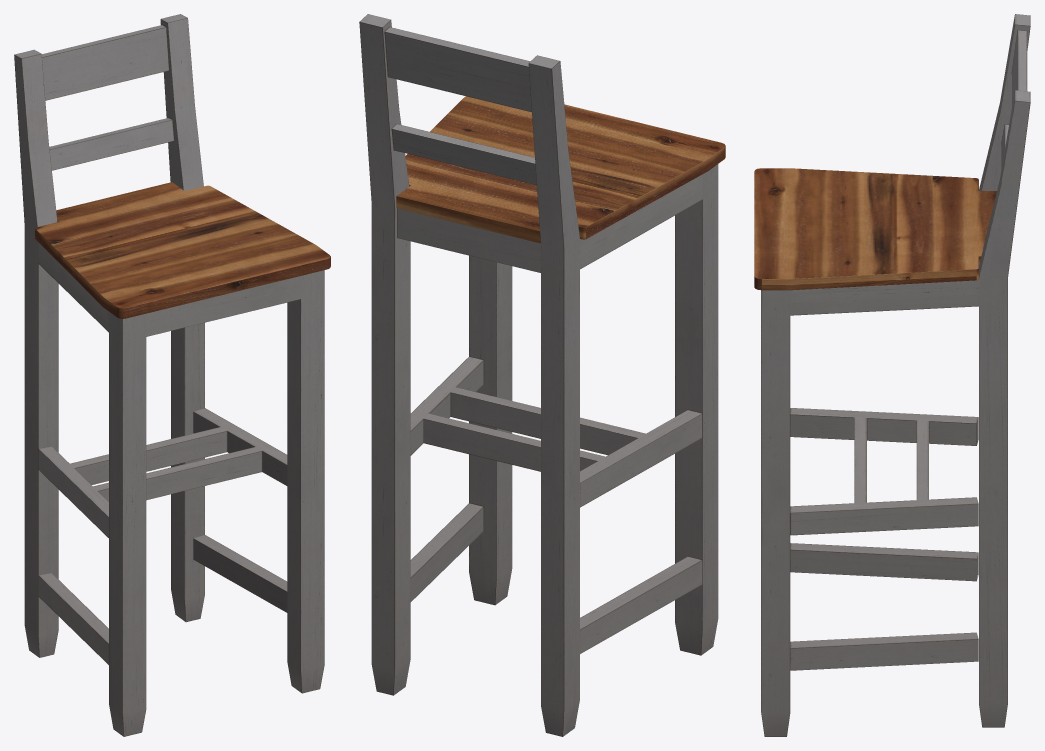
The model's file is example56.gltf.
3 renders of one model, left to right at view 1: azimuth 30°, elevation 25°; view 2: azimuth 150°, elevation 25°; view 3: azimuth 270°, elevation 25°, orthographic. The views are drawn at different scales.
Parts seen in each view (by area): view 1: Object_2, Object_3; view 2: Object_2, Object_3; view 3: Object_2, Object_3.
Boxes of the visible parts, left/top/right/bottom form: Object_2: left=14, top=14, right=324, bottom=736; Object_3: left=35, top=182, right=330, bottom=318; Object_2: left=359, top=14, right=718, bottom=736; Object_3: left=396, top=96, right=725, bottom=243; Object_2: left=761, top=14, right=1030, bottom=736; Object_3: left=754, top=168, right=996, bottom=290.
Bounding box in the file's own units: 42.2 × 111 × 44.44.
Materials: 2 (2 with a texture image).
